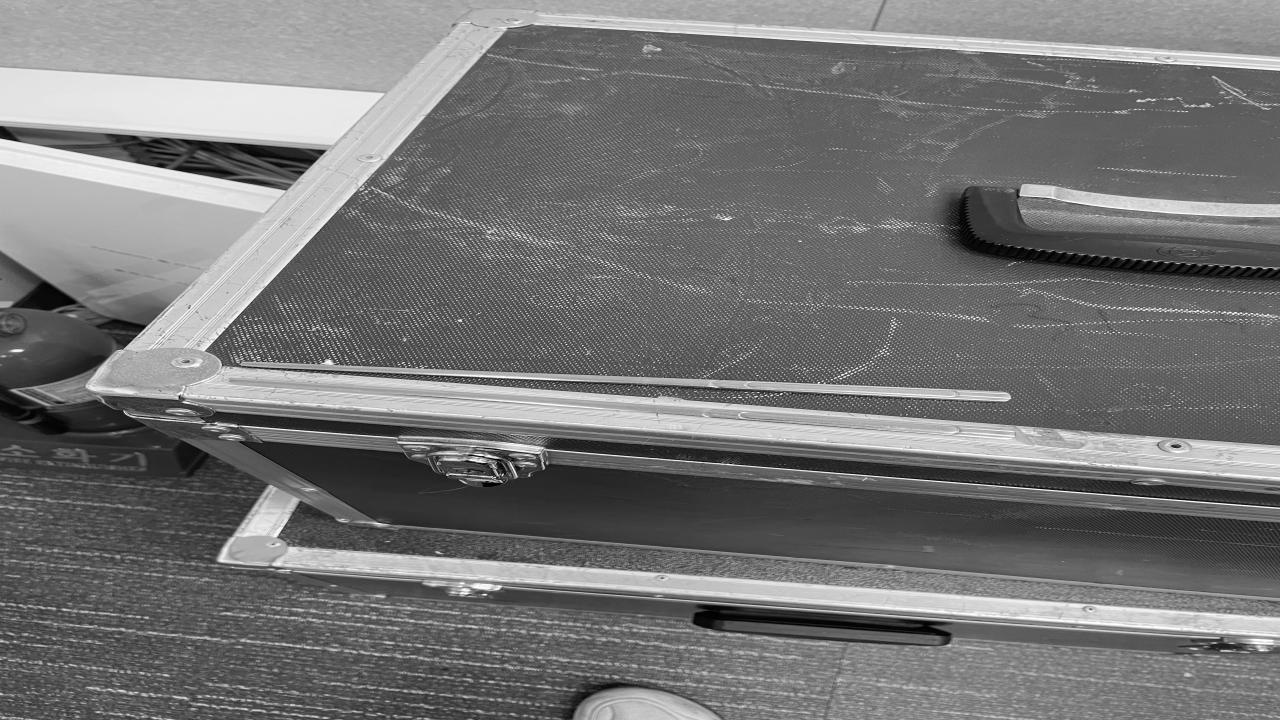chopstick: (218, 355, 1016, 441)
